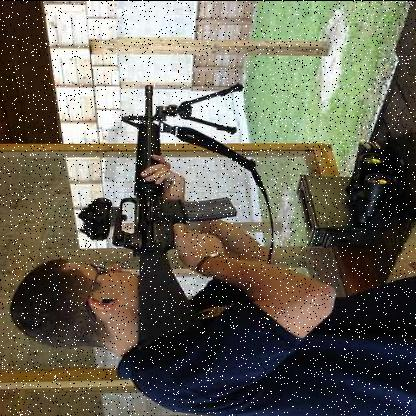rifle: (92, 76, 240, 350)
